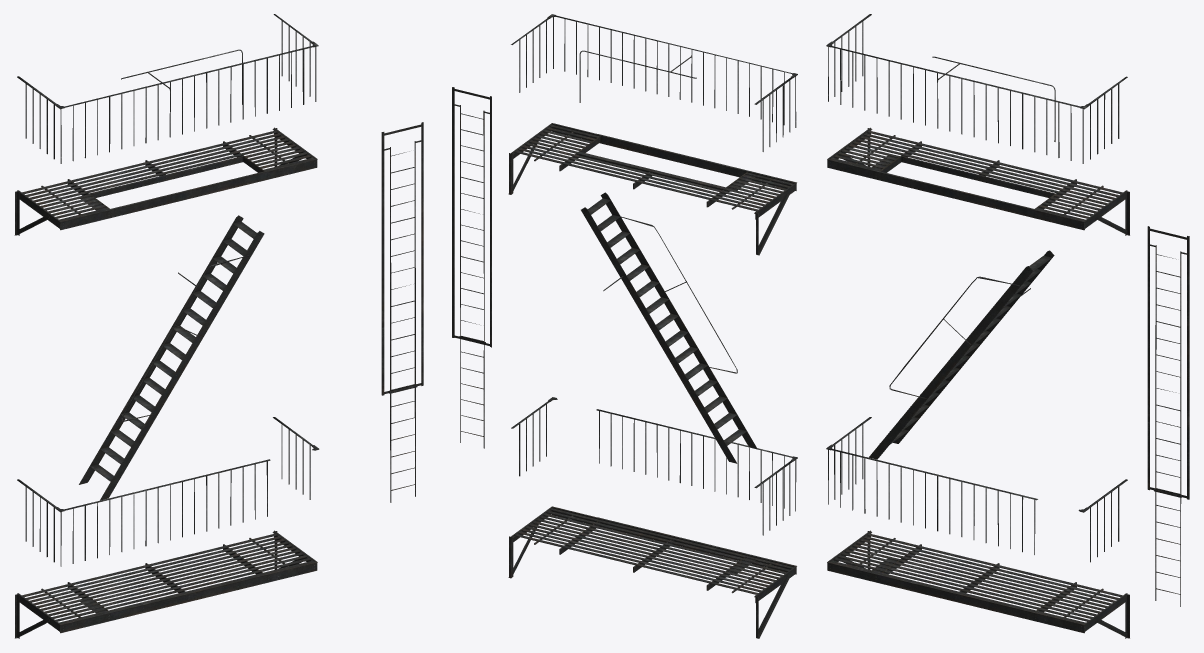
File: modular_fire_escape.glb
The picture shows the model from 3 angles, left to right: view 1: azimuth 30°, elevation 25°; view 2: azimuth 150°, elevation 25°; view 3: azimuth 330°, elevation 25°; orthographic projection. The views are drawn at different scales.
Visible parts, largest first — view 1: modular_fire_escape_platform_bottom, modular_fire_escape_platform_middle, modular_fire_escape_stairs, modular_fire_escape_ladder_bottom, modular_fire_escape_railing_middle, modular_fire_escape_railing_bottom; view 2: modular_fire_escape_platform_bottom, modular_fire_escape_platform_middle, modular_fire_escape_stairs, modular_fire_escape_railing_middle, modular_fire_escape_ladder_bottom, modular_fire_escape_railing_bottom; view 3: modular_fire_escape_platform_bottom, modular_fire_escape_platform_middle, modular_fire_escape_stairs, modular_fire_escape_railing_middle, modular_fire_escape_ladder_bottom, modular_fire_escape_railing_bottom.
Boxes of the visible parts, left/top/right/bottom form: modular_fire_escape_platform_bottom: left=15, top=530, right=317, bottom=638; modular_fire_escape_platform_middle: left=14, top=127, right=317, bottom=235; modular_fire_escape_stairs: left=79, top=215, right=264, bottom=500; modular_fire_escape_ladder_bottom: left=381, top=122, right=423, bottom=502; modular_fire_escape_railing_middle: left=17, top=14, right=318, bottom=163; modular_fire_escape_railing_bottom: left=17, top=417, right=319, bottom=566; modular_fire_escape_platform_bottom: left=508, top=506, right=796, bottom=638; modular_fire_escape_platform_middle: left=508, top=123, right=796, bottom=255; modular_fire_escape_stairs: left=581, top=192, right=757, bottom=463; modular_fire_escape_railing_middle: left=511, top=14, right=797, bottom=151; modular_fire_escape_ladder_bottom: left=452, top=87, right=491, bottom=448; modular_fire_escape_railing_bottom: left=511, top=397, right=797, bottom=535; modular_fire_escape_platform_bottom: left=827, top=530, right=1129, bottom=638; modular_fire_escape_platform_middle: left=827, top=127, right=1129, bottom=235; modular_fire_escape_stairs: left=869, top=250, right=1054, bottom=459; modular_fire_escape_railing_middle: left=826, top=14, right=1127, bottom=163; modular_fire_escape_ladder_bottom: left=1147, top=226, right=1189, bottom=606; modular_fire_escape_railing_bottom: left=826, top=417, right=1127, bottom=562.
Size of the model in its own units: 6.65 by 9.76 by 1.4.
Materials: 2 (2 with a texture image).
